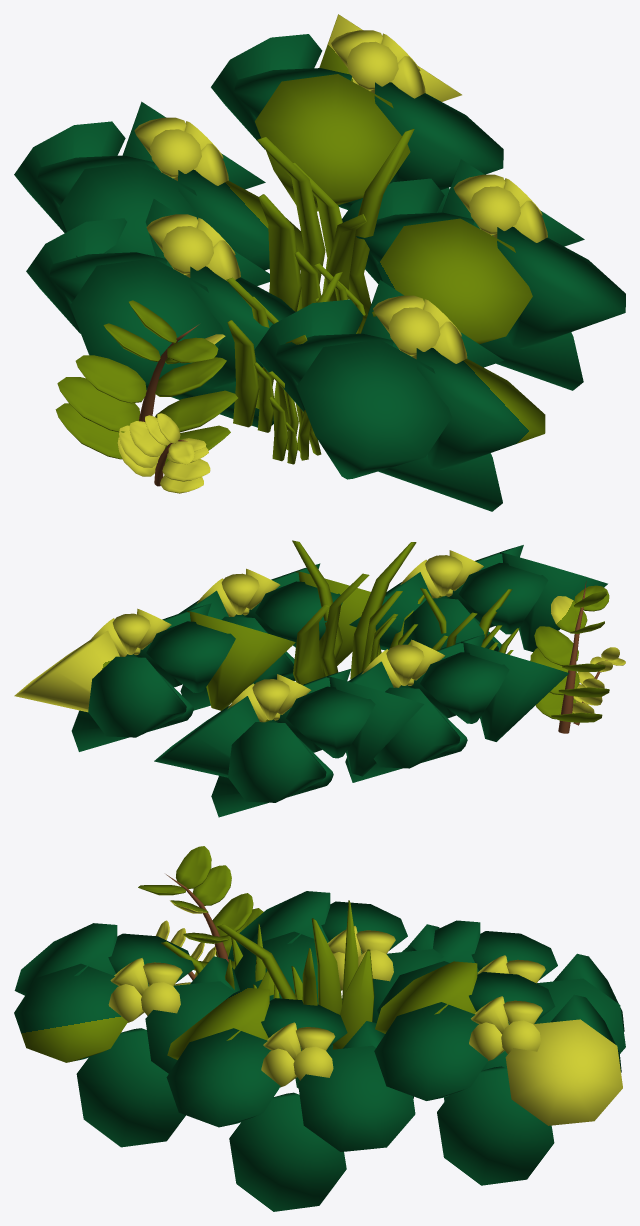
The model's file is Grass_08.fbx.
3 views of the same model, one above another, from view 1: azimuth 30°, elevation 25°; view 2: azimuth 150°, elevation 25°; view 3: azimuth 270°, elevation 25° (orthographic). The views are drawn at different scales.
Parts seen in each view (by area): view 1: grass_08; view 2: grass_08; view 3: grass_08.
Boxes of the visible parts, x1=… form: grass_08: x1=14, y1=14, x2=625, y2=511; grass_08: x1=14, y1=540, x2=625, y2=817; grass_08: x1=14, y1=846, x2=625, y2=1211.
Bounding box in the file's own units: 320 × 145 × 373.
Materials: 1 (1 with a texture image).
